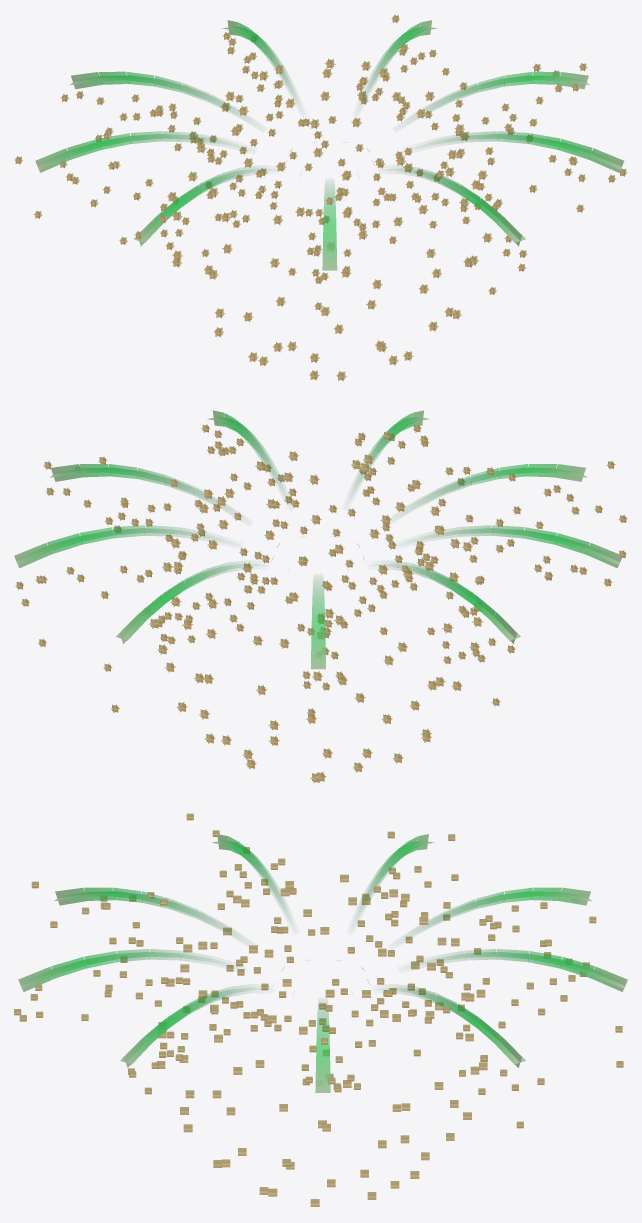
File: fw_palm_green_gold_b.glb
The picture shows the model from 3 angles, top to bottom: view 1: azimuth 30°, elevation 25°; view 2: azimuth 150°, elevation 25°; view 3: azimuth 270°, elevation 25°; orthographic projection. The views are drawn at different scales.
Parts seen in each view (by area): view 1: spire; view 2: spire; view 3: spire.
Part boxes in pixels (bbox=[...]): spire: bbox=[14, 14, 627, 381]; spire: bbox=[14, 410, 627, 782]; spire: bbox=[14, 813, 627, 1206].
Bounding box in the file's own units: 16.76 × 8.96 × 16.81.
Materials: 3 (3 with a texture image).
